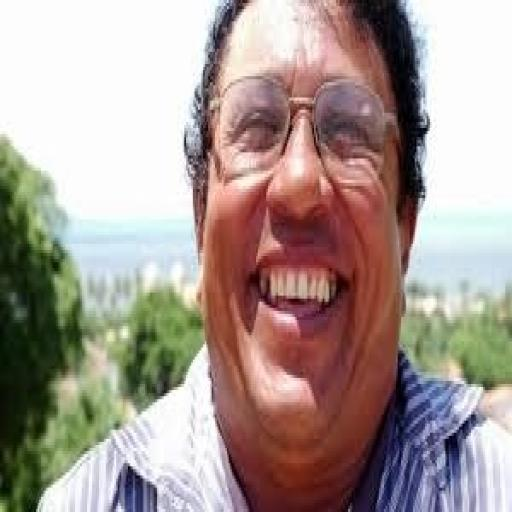laughing: (32, 3, 507, 506)
